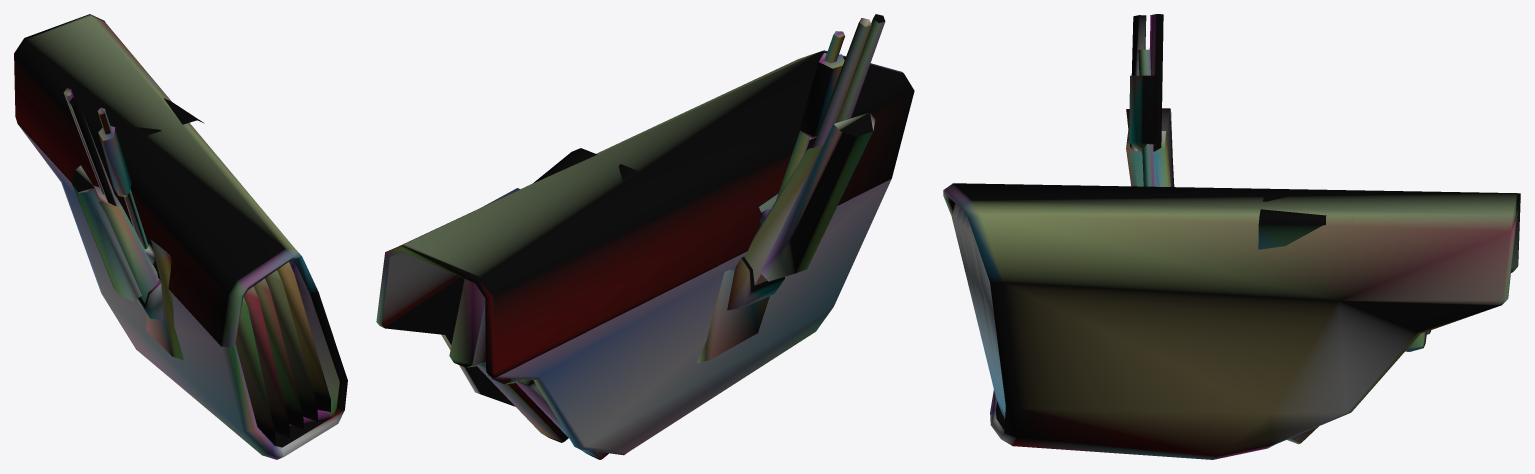
File: ASE_Shrike_Gib_Engine_FL.gltf
3 views of the same model, side by side, from view 1: azimuth 30°, elevation 25°; view 2: azimuth 150°, elevation 25°; view 3: azimuth 270°, elevation 25° (orthographic). The views are drawn at different scales.
Parts seen in each view (by area): view 1: ASE_Shrike_Gib_Engine_FL; view 2: ASE_Shrike_Gib_Engine_FL; view 3: ASE_Shrike_Gib_Engine_FL.
Boxes of the visible parts, <box> form: ASE_Shrike_Gib_Engine_FL: <box>14,14,347,459</box>; ASE_Shrike_Gib_Engine_FL: <box>376,14,914,459</box>; ASE_Shrike_Gib_Engine_FL: <box>943,14,1520,459</box>.
Bounding box in the file's own units: 0.3983 × 0.5719 × 0.8493.
